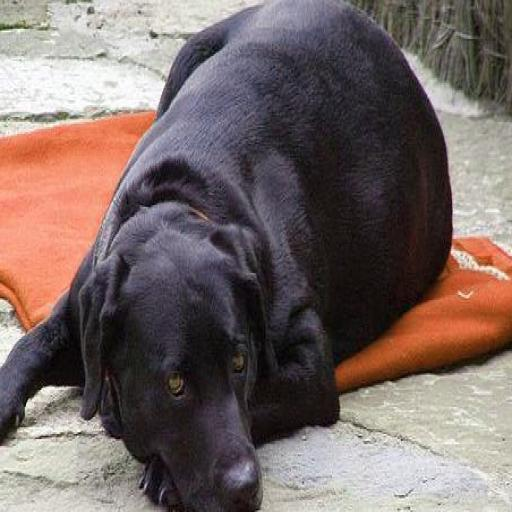dog_face: (85, 237, 275, 512)
